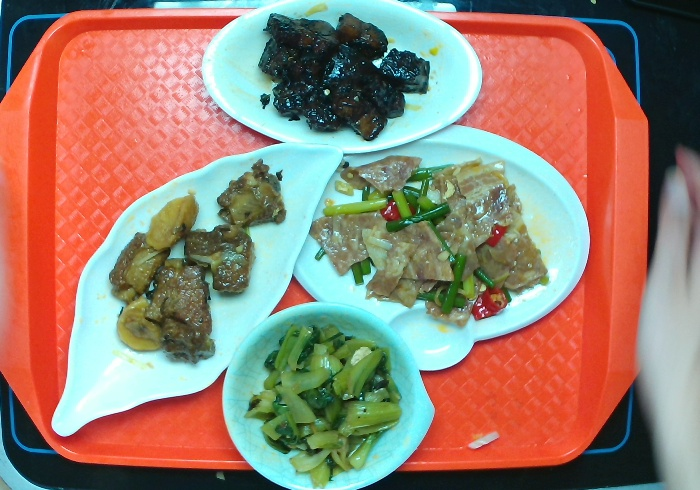RJxy-Bai_Se_Tuo_Yuan: (199, 1, 493, 151)
RJxy-Shu_Ye_Pan: (54, 133, 351, 429)
RJxy-Xiao_Jiao_Yuan_Wan: (212, 301, 436, 490)
RJxy-Zhan_Liao_Pan: (281, 124, 590, 368)
